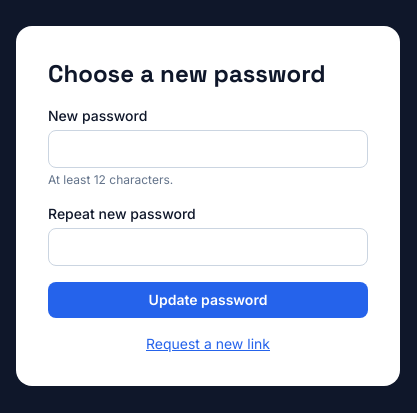
Scenario: reset page checks length and match, sends the token from the link, and reports success
This screenshot has width=417, height=413.
Type "short" into the password field labelled "New password At least 12 characters.".
click(208, 149); type("short")  # box [48, 130, 368, 168]
Click the button "Update password".
click(208, 300)  # box [48, 282, 368, 318]
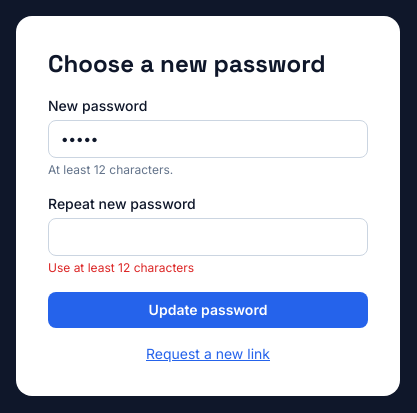
Expected: the text "Use at least 12 characters" is shown, [48, 260, 194, 275]
Type "a-long-new-passphrase" into the password field labelled "New password At least 12 characters.".
click(208, 139); type("a-long-new-passphrase")  # box [48, 120, 368, 158]
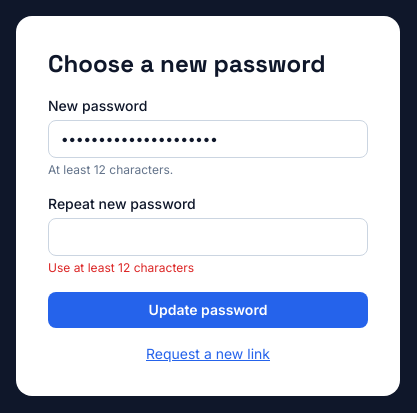
Type "different-passphrase!!" into the password field labelled "Repeat new password Use at least 12 characters".
click(208, 237); type("different-passphrase!!")  # box [48, 218, 368, 256]
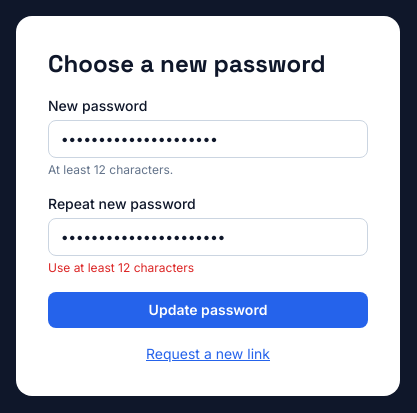
Click the button "Update password".
click(208, 310)  # box [48, 292, 368, 328]
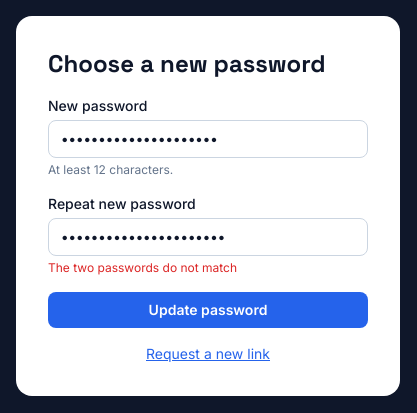
Expected: the text "The two passwords do not match" is shown, [48, 260, 237, 275]
Type "a-long-new-passphrase" into the password field labelled "Repeat new password The two passwords do not match".
click(208, 237); type("a-long-new-passphrase")  # box [48, 218, 368, 256]
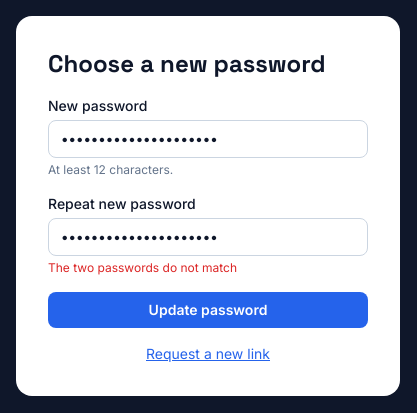
Click the button "Update password".
click(208, 310)  # box [48, 292, 368, 328]
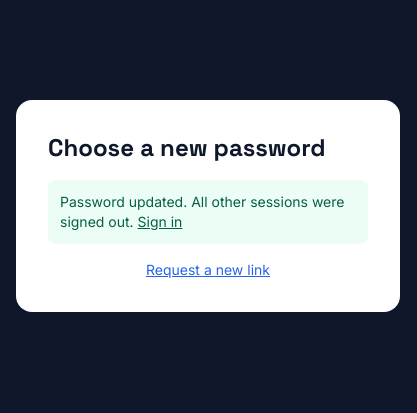
Expected: the text "Password updated. All other sessions were signed out. Sign in" is shown, [48, 180, 368, 244]
